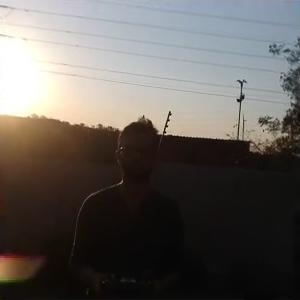follow: (58, 117, 188, 298)
